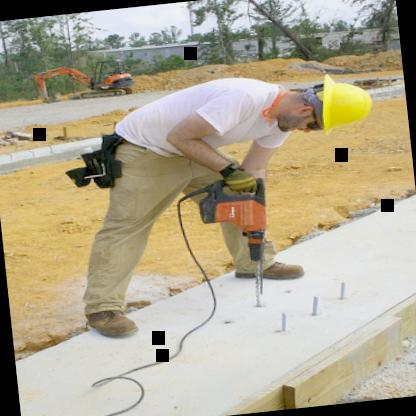helmet: (265, 70, 380, 137)
